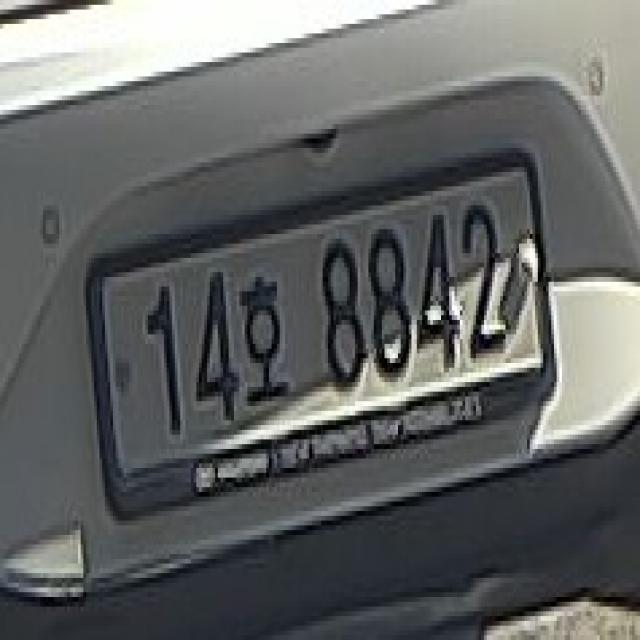1: (140, 258, 196, 454)
2: (460, 186, 505, 368)
4: (191, 239, 242, 439), (417, 177, 460, 387)
8: (317, 225, 368, 401), (369, 205, 414, 392)
ho: (239, 253, 293, 416)
license_plate: (81, 139, 562, 530)
